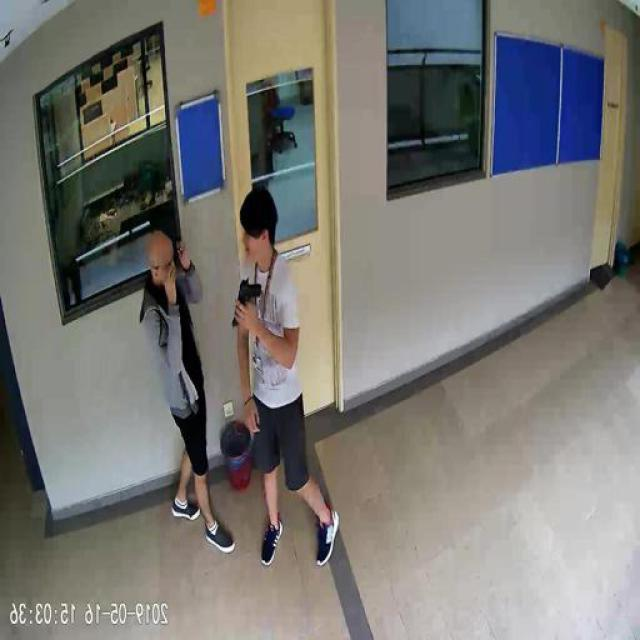weapon: (230, 280, 263, 330)
